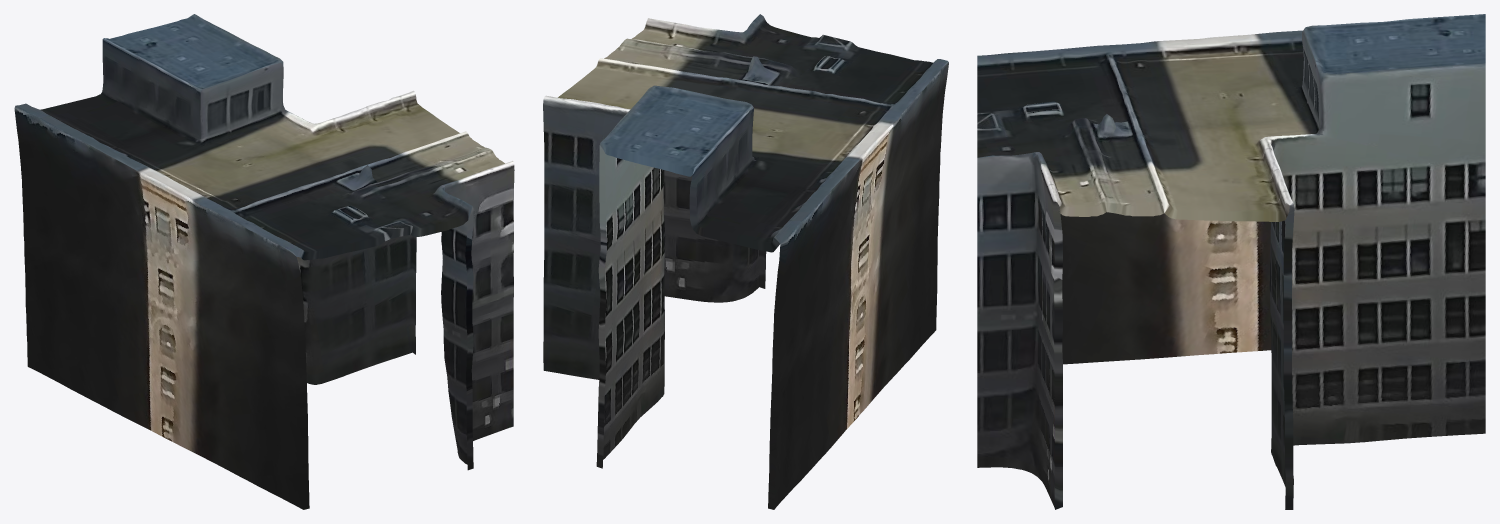
Rendered from z20-167766-405236-h1-yup-uvflip-v3-world.glb.
3 views of the same model, side by side, from view 1: azimuth 30°, elevation 25°; view 2: azimuth 150°, elevation 25°; view 3: azimuth 270°, elevation 25° (orthographic). The views are drawn at different scales.
Bounding box in the file's own units: 25.68 × 24.24 × 30.32.
Materials: 1 (1 with a texture image).
